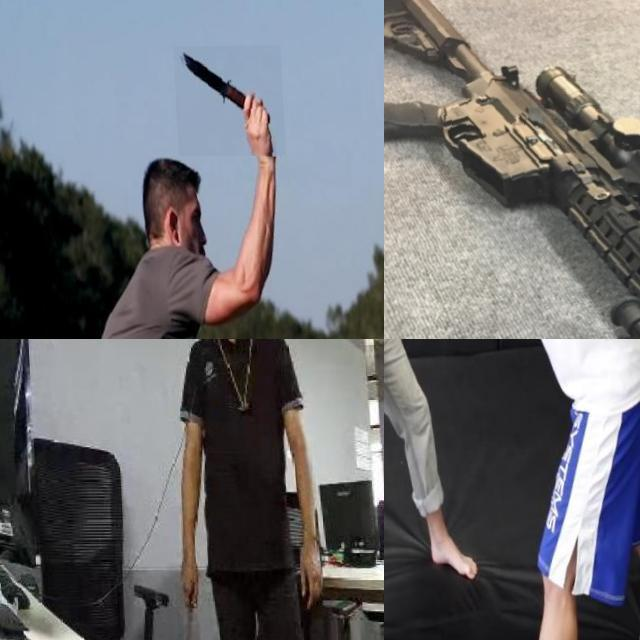-: (172, 46, 282, 156), (384, 339, 428, 385), (169, 582, 194, 640)
gun-knife-thesis - v11 Yolov5 augmented: (384, 0, 640, 339)
